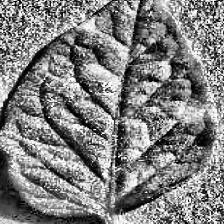leaf mold: (2, 0, 217, 205)
